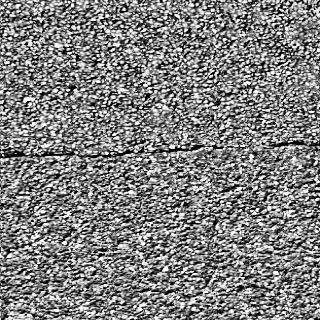crack: (12, 134, 316, 177)
